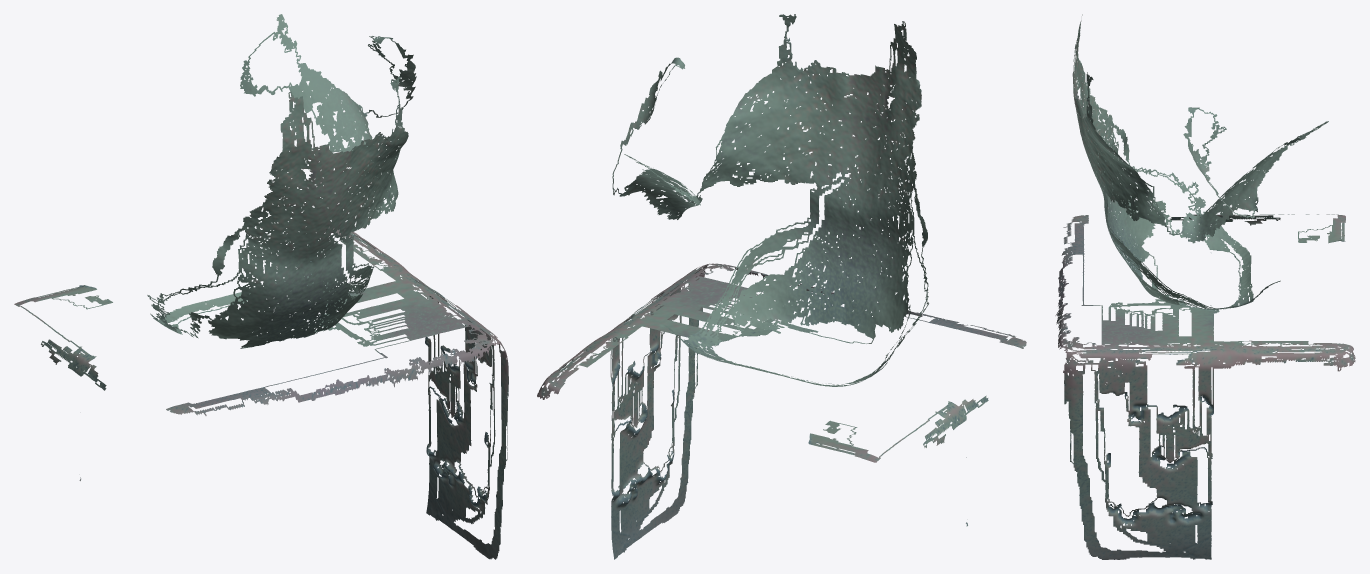
Rendered from cthulhu17_material_0.004_lev1.glb.
3 views of the same model, side by side, from view 1: azimuth 30°, elevation 25°; view 2: azimuth 150°, elevation 25°; view 3: azimuth 270°, elevation 25° (orthographic). The views are drawn at different scales.
Visible parts, largest first — view 1: cthulhu17_material_0.004_lev1; view 2: cthulhu17_material_0.004_lev1; view 3: cthulhu17_material_0.004_lev1.
Boxes of the visible parts, x1,y1,x2,y2 form: cthulhu17_material_0.004_lev1: (14,14,508,559); cthulhu17_material_0.004_lev1: (537,14,1026,559); cthulhu17_material_0.004_lev1: (1055,14,1355,559).
Bounding box in the file's own units: 2.47 × 3.55 × 2.12.
